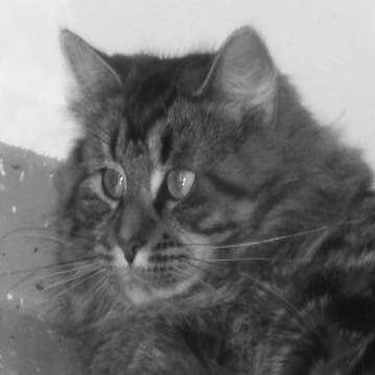cat: (1, 5, 370, 370)
